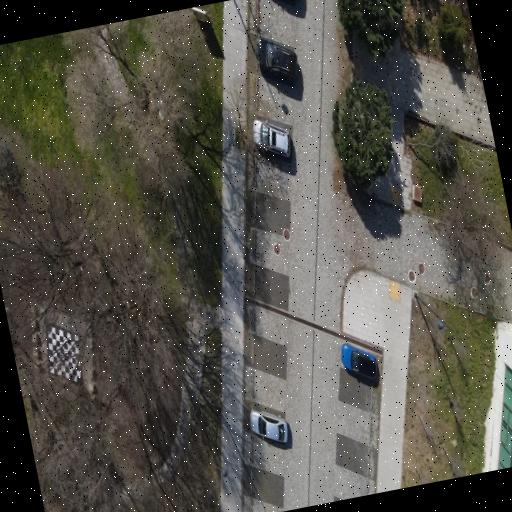person: (257, 38, 297, 81), (253, 119, 290, 156), (342, 343, 378, 379), (250, 409, 288, 441), (273, 0, 298, 5)
